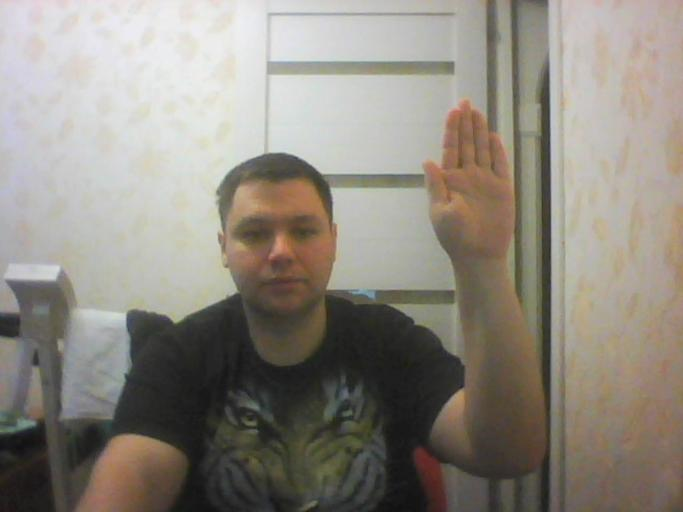stop: (418, 96, 519, 263)
